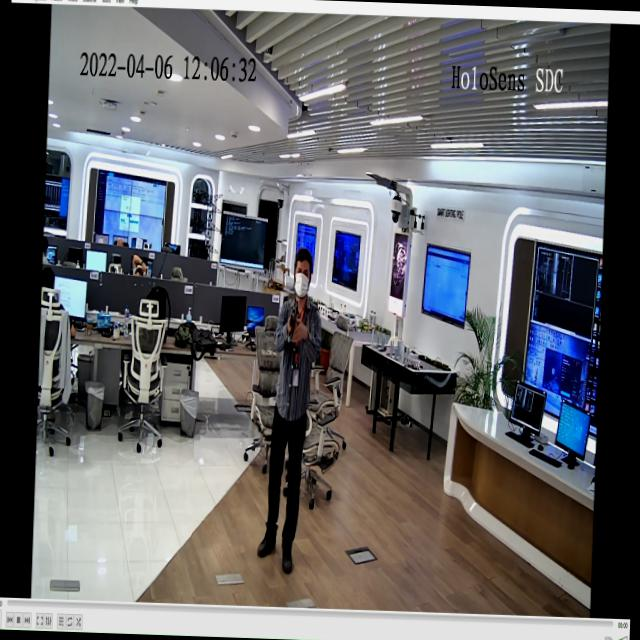long weapon: (282, 298, 302, 342)
